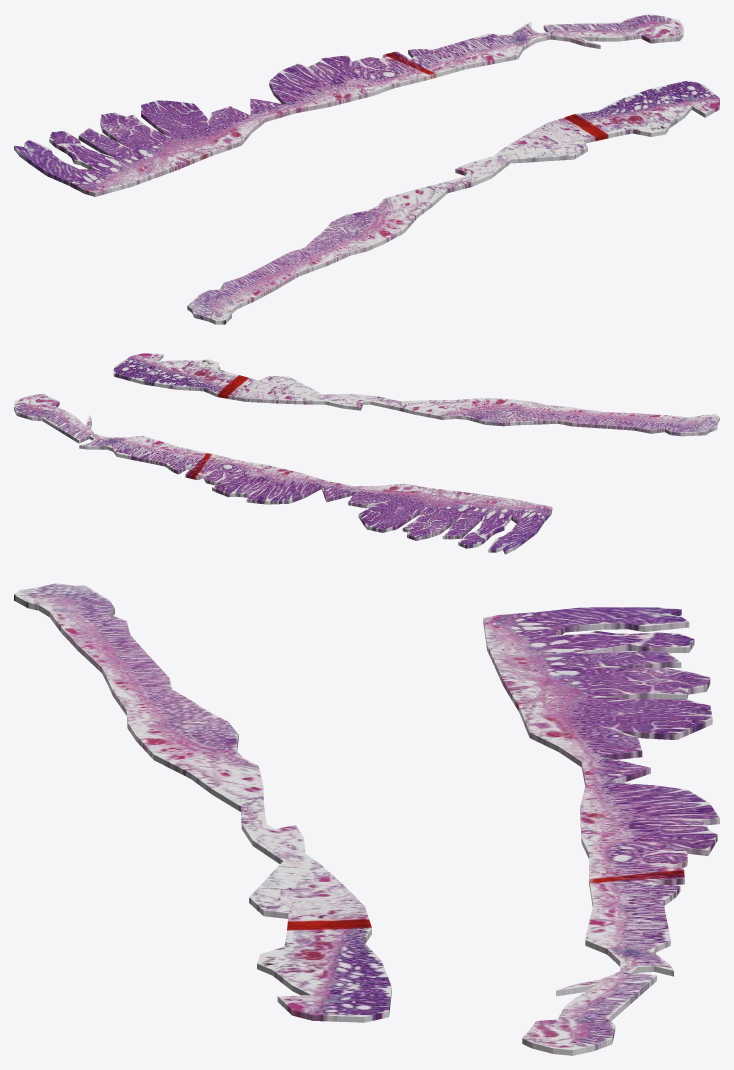
3 views of the same model, one above another, from view 1: azimuth 30°, elevation 25°; view 2: azimuth 150°, elevation 25°; view 3: azimuth 270°, elevation 25° (orthographic). The views are drawn at different scales.
Parts seen in each view (by area): view 1: 平面; view 2: 平面; view 3: 平面.
Boxes of the visible parts, <box> form: 平面: <box>14,14,719,324</box>; 平面: <box>14,353,719,554</box>; 平面: <box>14,583,719,1055</box>.
Bounding box in the file's own units: 24.64 × 0.14 × 15.74.
Materials: 1 (1 with a texture image).
